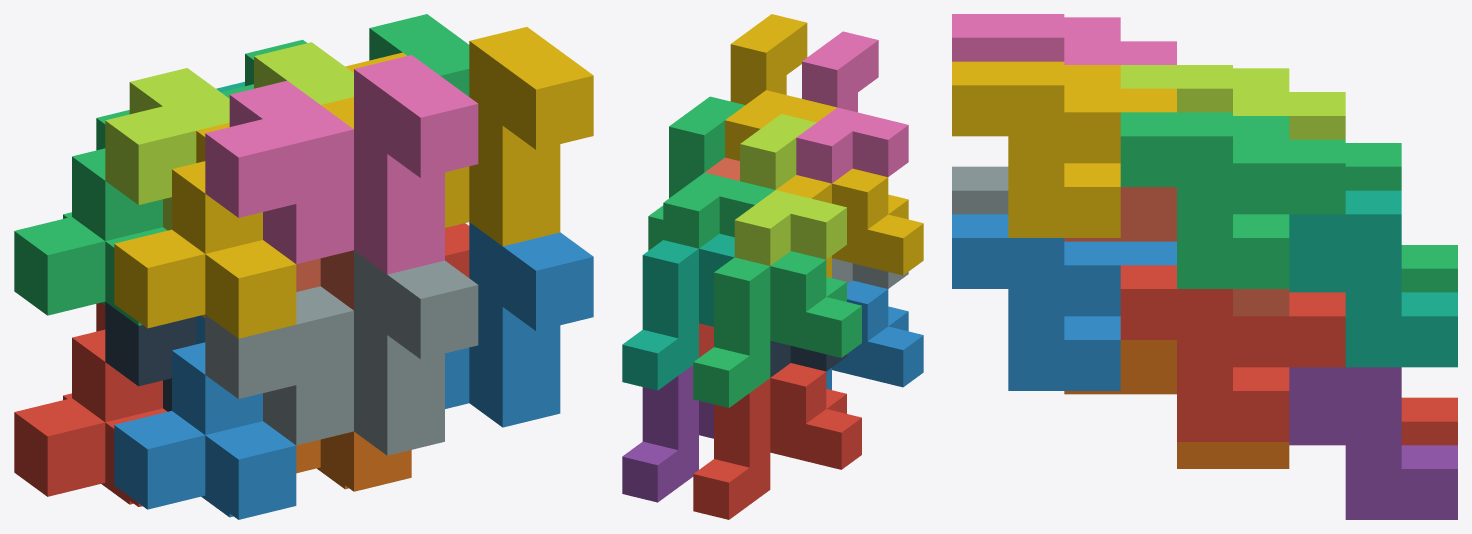
The model's file is tiling.obj.
3 renders of one model, left to right at view 1: azimuth 30°, elevation 25°; view 2: azimuth 150°, elevation 25°; view 3: azimuth 270°, elevation 25°, orthographic. The views are drawn at different scales.
Visible parts, largest first — view 1: copy_2_domain_4, copy_2_domain_2, copy_2_domain_8, copy_1_domain_4, copy_2_domain_6, copy_1_domain_2, copy_2_domain_3, copy_1_domain_3, copy_1_domain_1, copy_2_domain_7, copy_2_domain_1, copy_1_domain_6 (+2 smaller); view 2: copy_1_domain_3, copy_1_domain_1, copy_2_domain_4, copy_1_domain_7, copy_2_domain_3, copy_2_domain_7, copy_2_domain_8, copy_1_domain_4, copy_1_domain_5, copy_1_domain_2, copy_2_domain_1, copy_2_domain_2 (+2 smaller); view 3: copy_2_domain_7, copy_2_domain_8, copy_2_domain_5, copy_2_domain_6, copy_1_domain_7, copy_1_domain_5, copy_2_domain_3, copy_2_domain_4, copy_1_domain_6, copy_1_domain_3, copy_1_domain_8, copy_1_domain_1 (+1 smaller).
Part boxes in pixels (x1,y1,x2,y2): copy_2_domain_4: (205, 55, 478, 274); copy_2_domain_2: (205, 250, 478, 455); copy_2_domain_8: (321, 27, 593, 246); copy_1_domain_4: (114, 122, 296, 338); copy_2_domain_6: (445, 222, 593, 427); copy_1_domain_2: (114, 315, 296, 519); copy_2_domain_3: (105, 42, 353, 230); copy_1_domain_3: (14, 110, 167, 325); copy_1_domain_1: (14, 302, 167, 506); copy_2_domain_7: (221, 14, 469, 98); copy_2_domain_1: (105, 302, 196, 411); copy_1_domain_6: (296, 431, 411, 491); copy_1_domain_3: (693, 251, 861, 407); copy_1_domain_1: (693, 363, 861, 519); copy_2_domain_4: (796, 31, 908, 183); copy_1_domain_7: (622, 233, 734, 390); copy_2_domain_3: (734, 114, 846, 265); copy_2_domain_7: (648, 96, 775, 250); copy_2_domain_8: (725, 14, 836, 160); copy_1_domain_4: (776, 168, 923, 278); copy_1_domain_5: (622, 365, 713, 502); copy_1_domain_2: (826, 280, 923, 389); copy_2_domain_1: (770, 341, 846, 377); copy_2_domain_2: (832, 258, 908, 288); copy_2_domain_7: (1120, 112, 1345, 288); copy_2_domain_8: (952, 61, 1176, 237); copy_2_domain_5: (1120, 265, 1345, 441); copy_2_domain_6: (952, 214, 1176, 390); copy_1_domain_7: (1289, 190, 1457, 367); copy_1_domain_5: (1289, 367, 1457, 519); copy_2_domain_3: (1120, 65, 1345, 139); copy_2_domain_4: (952, 14, 1176, 64); copy_1_domain_6: (1064, 340, 1289, 468); copy_1_domain_3: (1345, 143, 1457, 292); copy_1_domain_8: (1064, 187, 1289, 316); copy_1_domain_1: (1401, 397, 1457, 445).
Bounding box in the file's own units: 6 × 9 × 9.
